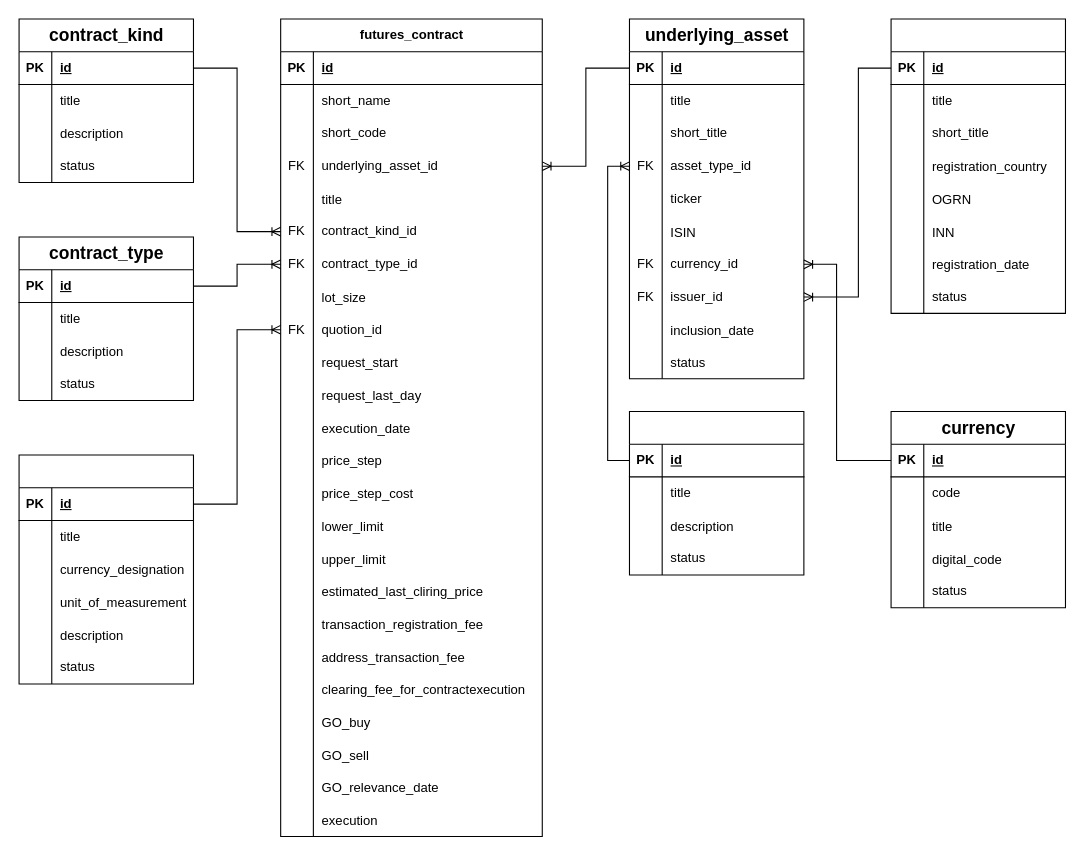
Some shapes in this 1085 by 856 pixel diagram are drawn without their labels. Here are the shapes that lost their labels. From the top down, the box of each, then its label:
(890, 18, 1065, 313): issuer
(628, 410, 804, 575): underlying_asset_type
(18, 454, 193, 684): quotion
